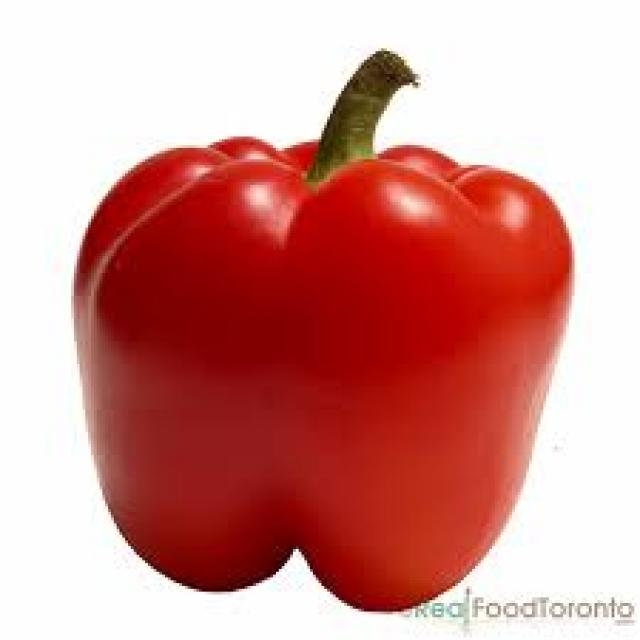organic waste: (71, 46, 569, 608)
